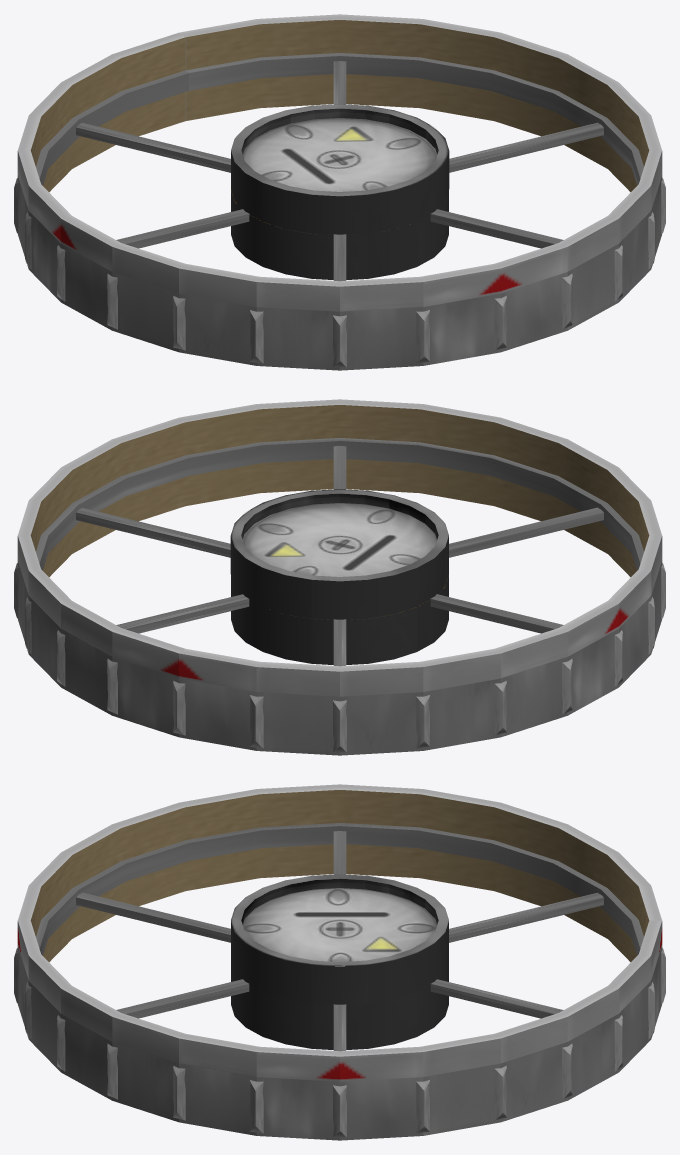
The picture shows the model from 3 angles, top to bottom: view 1: azimuth 30°, elevation 25°; view 2: azimuth 150°, elevation 25°; view 3: azimuth 270°, elevation 25°; orthographic projection.
Visible parts, largest first — view 1: Adapter18, Cylinder047, Tube003, Cylinder046, Box108, Box115, Box114, Bracer052, Bracer051, Bracer053, Bracer054, Bracer050 (+2 smaller); view 2: Adapter18, Cylinder047, Tube003, Cylinder046, Box108, Box114, Box115, Bracer044, Bracer043, Bracer045, Bracer046, Bracer001 (+2 smaller); view 3: Adapter18, Cylinder047, Tube003, Cylinder046, Box115, Box114, Box108, Bracer060, Bracer059, Bracer061, Bracer062, Bracer058 (+2 smaller).
Boxes of the visible parts, x1,y1,x2,y2 form: Adapter18: [17, 14, 662, 370]; Cylinder047: [231, 104, 449, 234]; Tube003: [36, 53, 643, 185]; Cylinder046: [231, 190, 448, 279]; Box108: [116, 122, 603, 248]; Box115: [76, 122, 563, 248]; Box114: [333, 61, 346, 281]; Bracer052: [333, 315, 346, 367]; Bracer051: [250, 310, 263, 363]; Bracer053: [416, 310, 429, 363]; Bracer054: [494, 296, 506, 350]; Bracer050: [173, 296, 185, 350]; Adapter18: [17, 399, 662, 755]; Cylinder047: [230, 489, 448, 619]; Tube003: [36, 438, 643, 570]; Cylinder046: [231, 575, 448, 664]; Box108: [76, 507, 563, 633]; Box114: [116, 507, 603, 633]; Box115: [333, 446, 346, 666]; Bracer044: [333, 700, 346, 752]; Bracer043: [250, 695, 263, 748]; Bracer045: [416, 695, 429, 748]; Bracer046: [494, 681, 506, 735]; Bracer001: [173, 681, 185, 735]; Adapter18: [17, 784, 662, 1140]; Cylinder047: [231, 874, 448, 1004]; Tube003: [36, 823, 643, 955]; Cylinder046: [231, 960, 448, 1049]; Box115: [116, 892, 603, 1018]; Box114: [76, 892, 563, 1018]; Box108: [333, 831, 346, 1051]; Bracer060: [333, 1085, 346, 1137]; Bracer059: [250, 1080, 263, 1133]; Bracer061: [416, 1080, 429, 1133]; Bracer062: [494, 1066, 506, 1120]; Bracer058: [173, 1066, 185, 1120].
Size of what is drawn, in the model's own units: 1.9 by 0.2702 by 1.9.
1 material, 1 textured.
